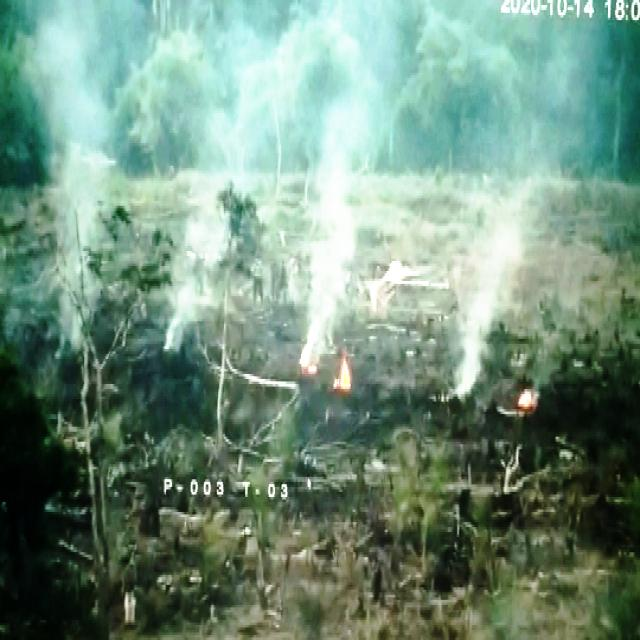asap: (20, 8, 125, 375), (442, 182, 526, 415), (302, 147, 363, 393), (157, 202, 230, 390)
